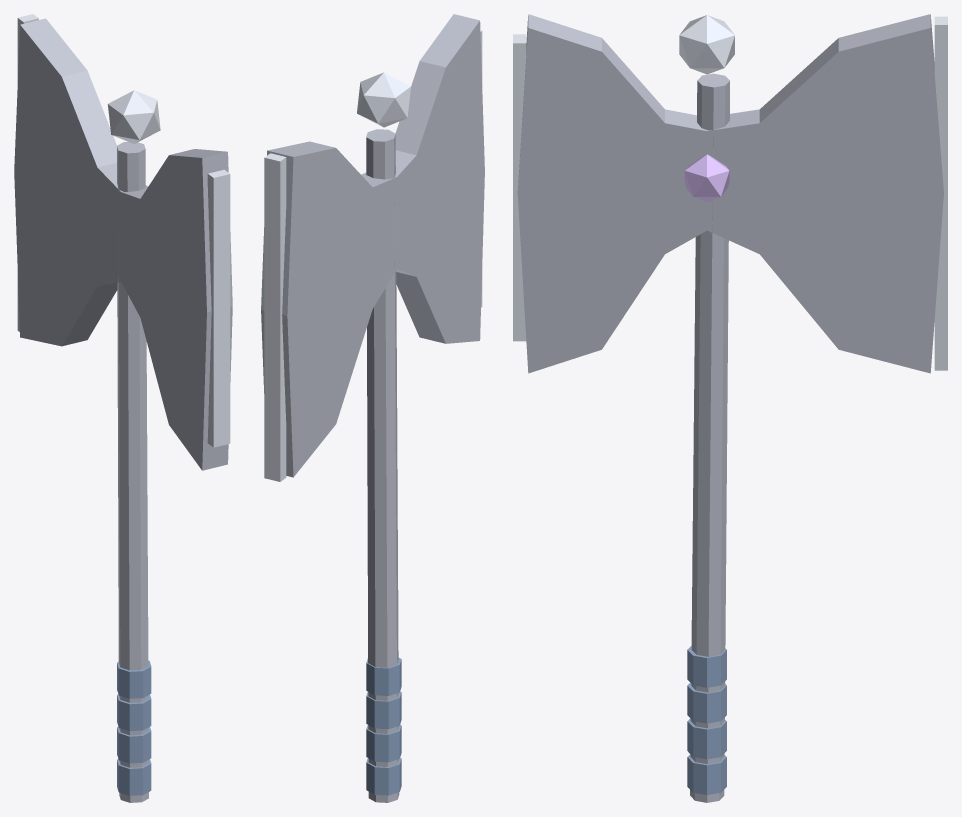
The model's file is Axe_10.fbx.
3 views of the same model, side by side, from view 1: azimuth 30°, elevation 25°; view 2: azimuth 150°, elevation 25°; view 3: azimuth 270°, elevation 25° (orthographic). The views are drawn at different scales.
Visible parts, largest first — view 1: Axe_10_Mesh; view 2: Axe_10_Mesh; view 3: Axe_10_Mesh.
Boxes of the visible parts, <box> form: Axe_10_Mesh: <box>14,14,232,802</box>; Axe_10_Mesh: <box>261,14,484,802</box>; Axe_10_Mesh: <box>513,14,947,802</box>.
Size of the model in its own units: 0.1105 by 1.31 by 0.661.
